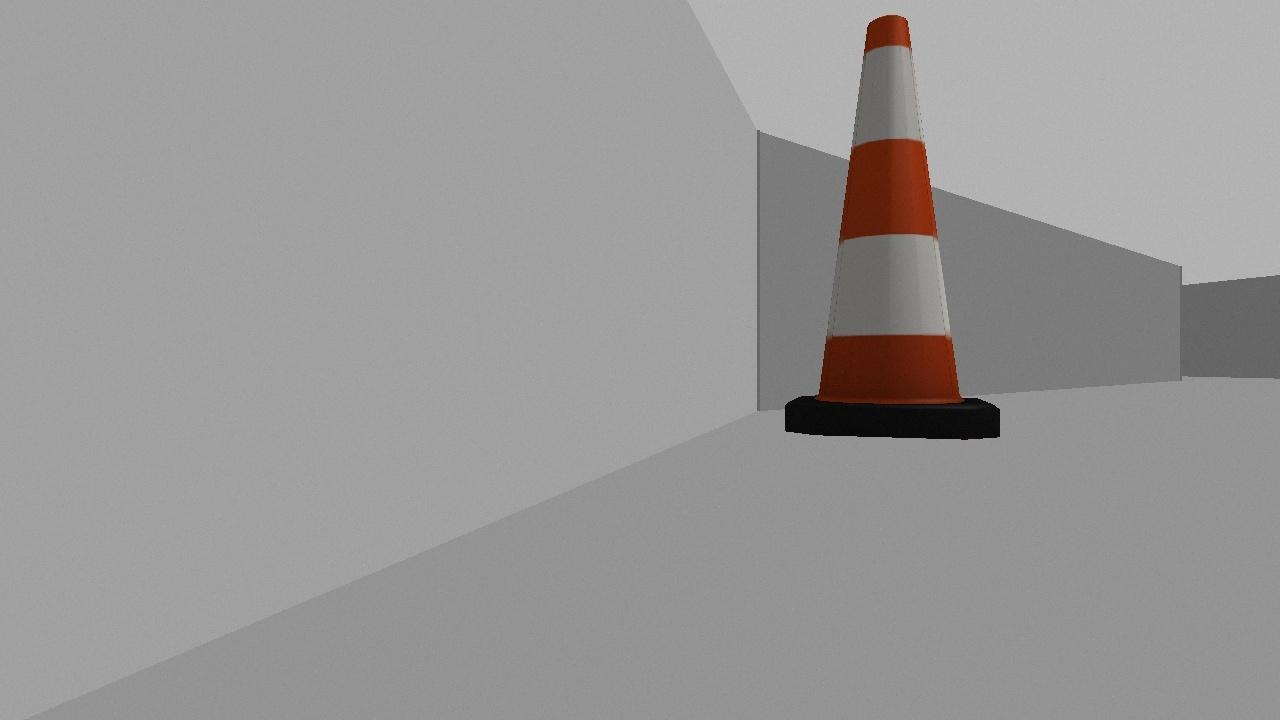cone_barrel: (759, 7, 1012, 452)
